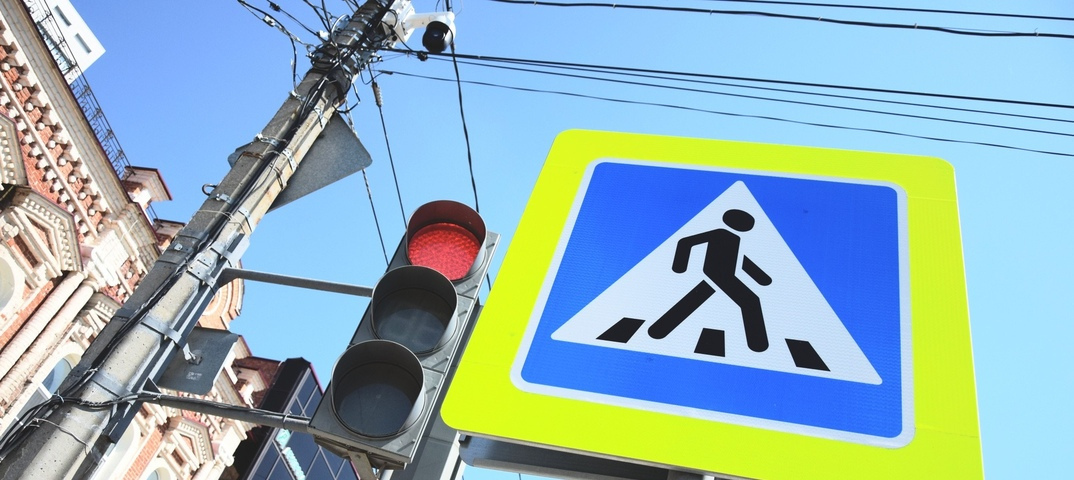tl: (306, 183, 497, 461)
